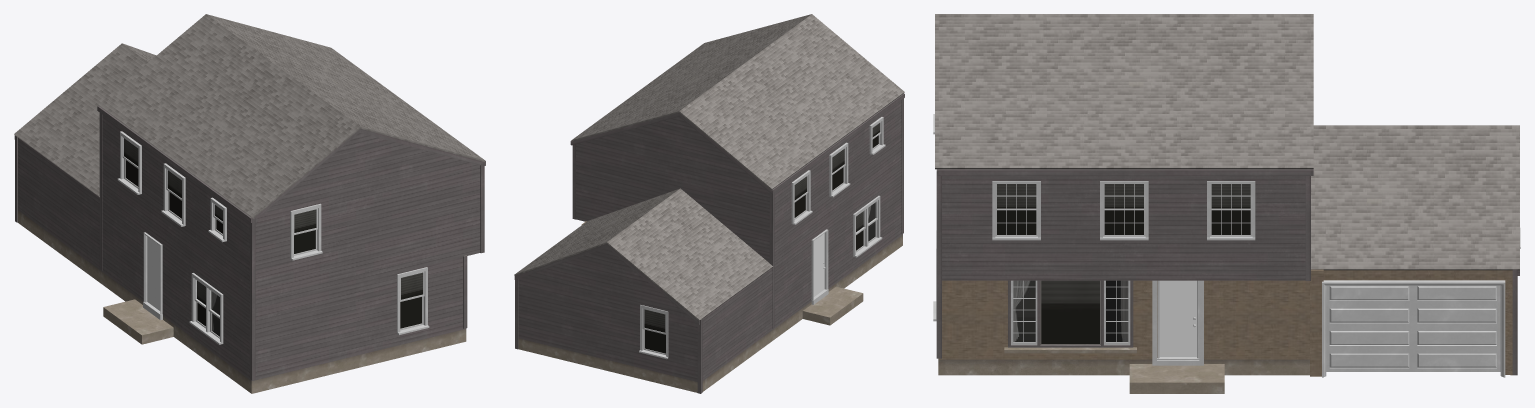
File: house-3.glb
The picture shows the model from 3 angles, left to right: view 1: azimuth 30°, elevation 25°; view 2: azimuth 150°, elevation 25°; view 3: azimuth 270°, elevation 25°; orthographic projection. The views are drawn at different scales.
Parts seen in each view (by area): view 1: House_3_col_V1; view 2: House_3_col_V1; view 3: House_3_col_V1.
Boxes of the visible parts, x1=… form: House_3_col_V1: x1=14, y1=14, x2=485, y2=393; House_3_col_V1: x1=514, y1=14, x2=904, y2=393; House_3_col_V1: x1=933, y1=14, x2=1520, y2=393.
Bounding box in the file's own units: 9.32 × 7.76 × 13.91.
Materials: 1 (1 with a texture image).
